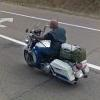Motorcycle: (15, 19, 94, 89)
